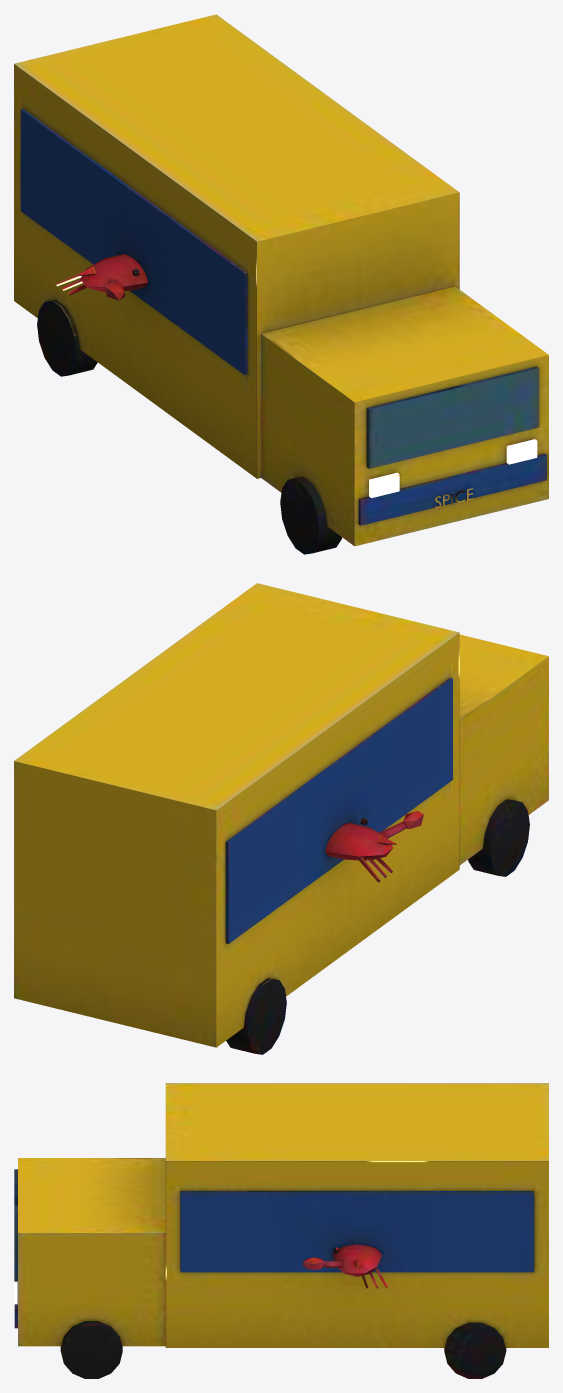
File: camion_especias.glb
3 views of the same model, one above another, from view 1: azimuth 30°, elevation 25°; view 2: azimuth 150°, elevation 25°; view 3: azimuth 270°, elevation 25° (orthographic). The views are drawn at different scales.
Parts seen in each view (by area): view 1: camion_especias; view 2: camion_especias; view 3: camion_especias.
Part boxes in pixels (x1=…): camion_especias: x1=14, y1=14, x2=548, y2=554; camion_especias: x1=14, y1=583, x2=548, y2=1054; camion_especias: x1=14, y1=1083, x2=548, y2=1378.
Bounding box in the file's own units: 4.01 × 3.24 × 7.25.
1 material, 1 textured.
